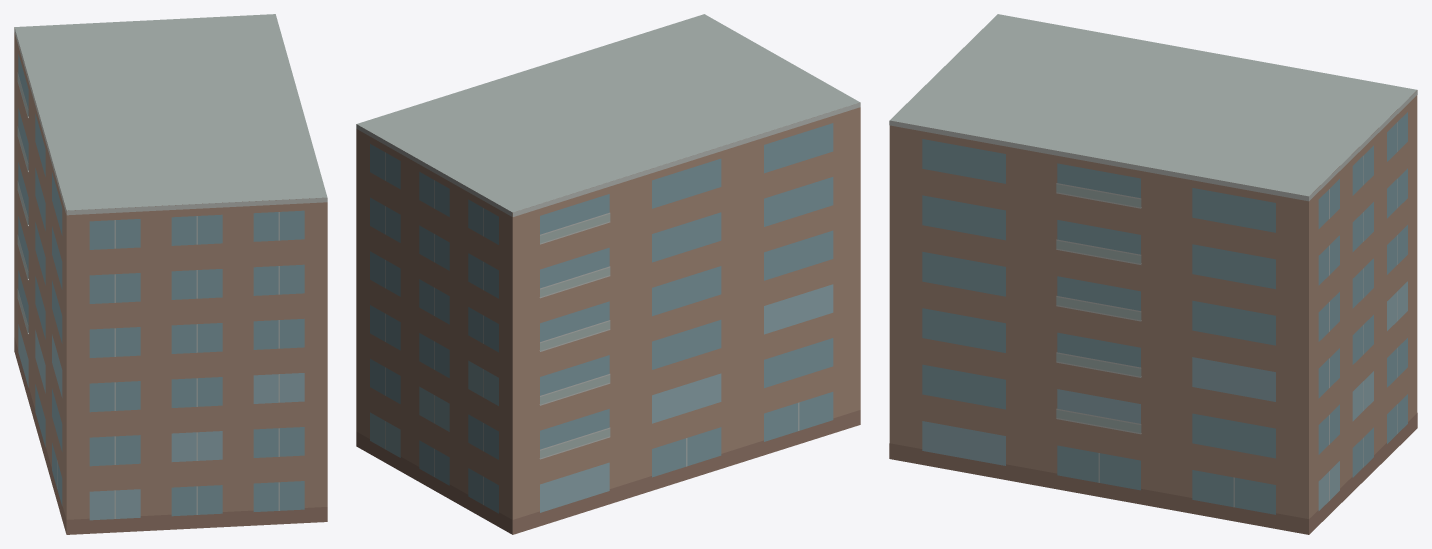
The model's file is survey-upis-32524116.glb.
3 views of the same model, side by side, from view 1: azimuth 30°, elevation 25°; view 2: azimuth 150°, elevation 25°; view 3: azimuth 270°, elevation 25° (orthographic). The views are drawn at different scales.
Parts seen in each view (by area): view 1: survey-upis-32524116.tmp; view 2: survey-upis-32524116.tmp; view 3: survey-upis-32524116.tmp.
Boxes of the visible parts, box(x1,y1,x2,y2) form: survey-upis-32524116.tmp: box(14, 14, 327, 534); survey-upis-32524116.tmp: box(356, 14, 860, 534); survey-upis-32524116.tmp: box(889, 14, 1417, 534).
Bounding box in the file's own units: 19.31 × 16.7 × 23.62.
